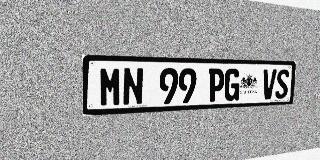9: (159, 68, 179, 104), (178, 68, 197, 103)
G: (224, 69, 241, 101)
M: (99, 67, 122, 107)
N: (122, 67, 144, 106)
P: (207, 68, 225, 102)
S: (275, 69, 290, 99)
V: (261, 69, 277, 99)
